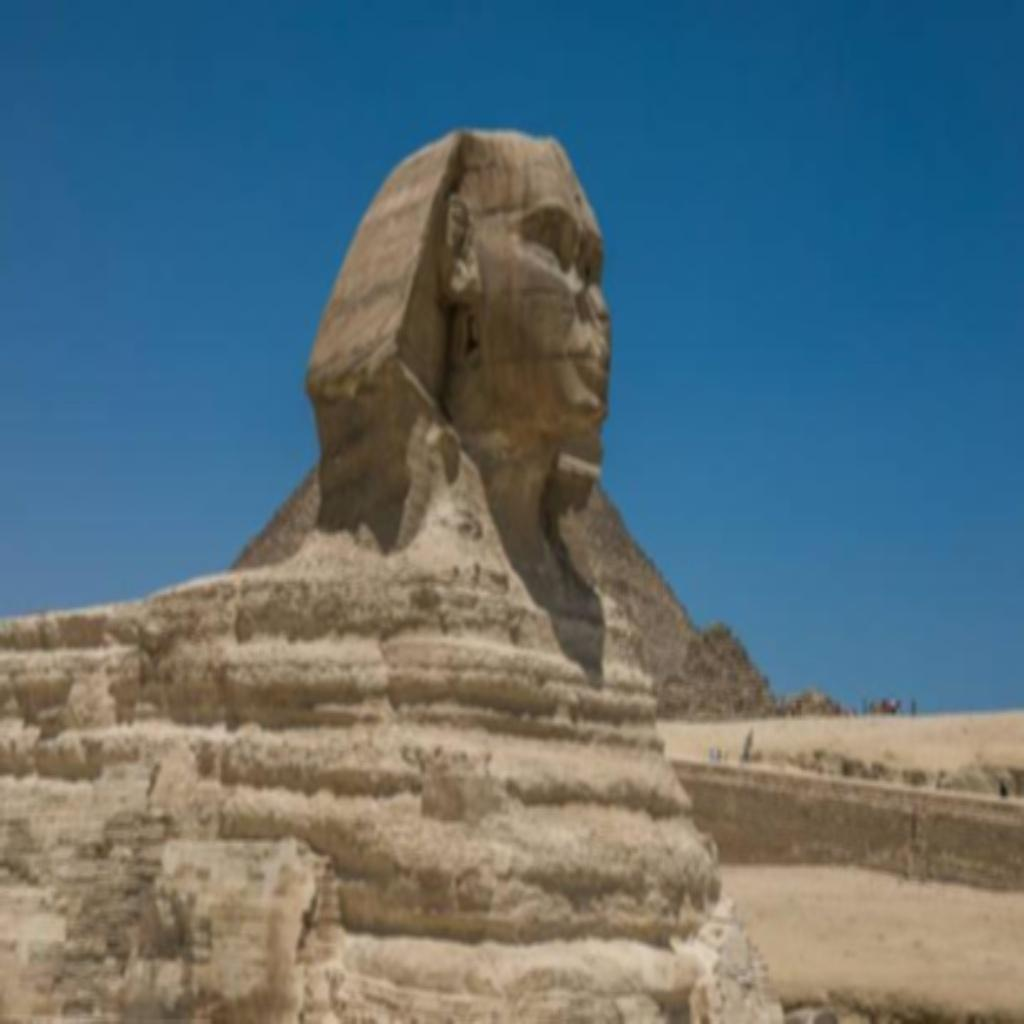Sphinx: (0, 122, 795, 1022)
